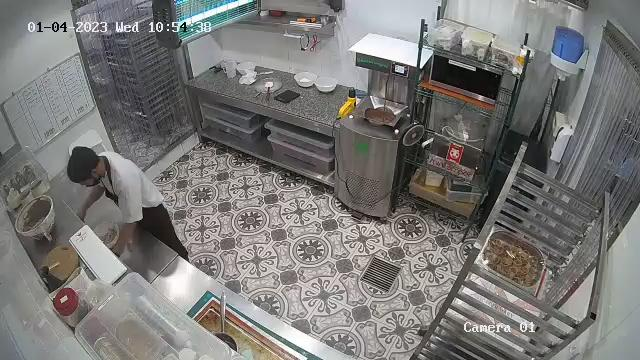apron: (98, 159, 176, 227)
